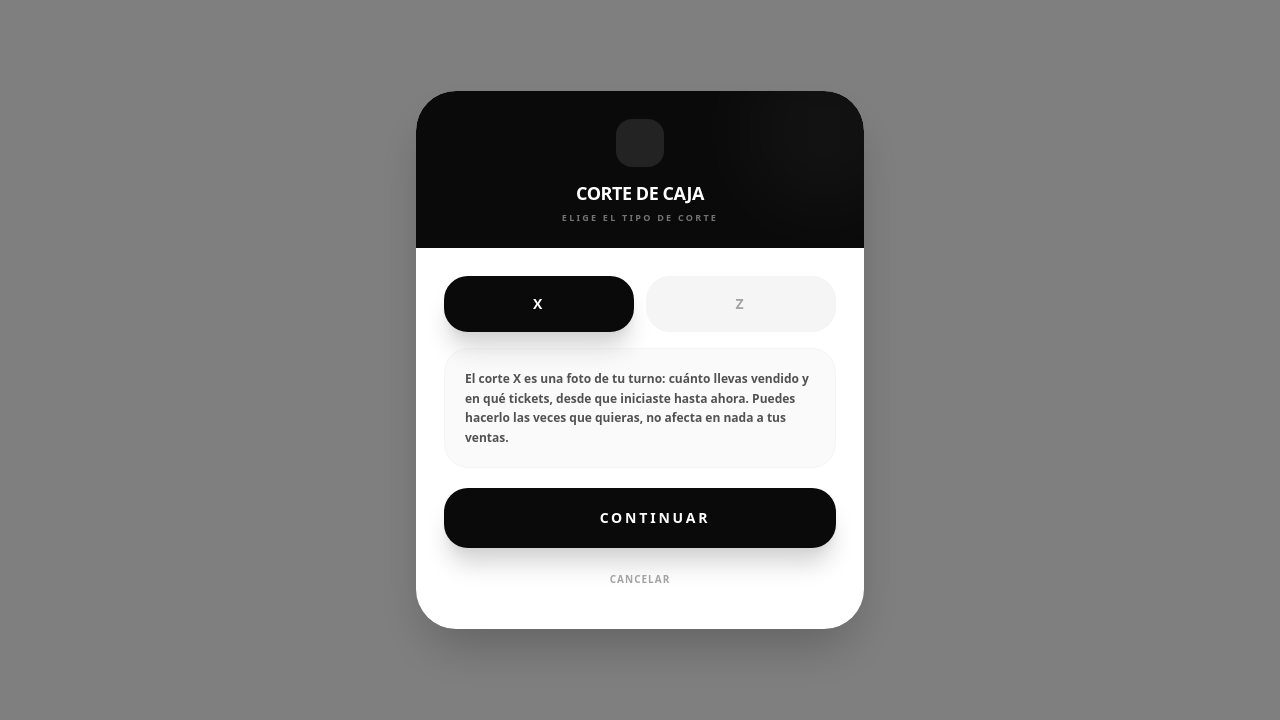
Test: empleacortes · previa e impresión › Continuar en X pide el reporte y muestra folios TICKET-NNNN
Click the button "Continuar".
click(640, 518)  # box [444,488,836,548]
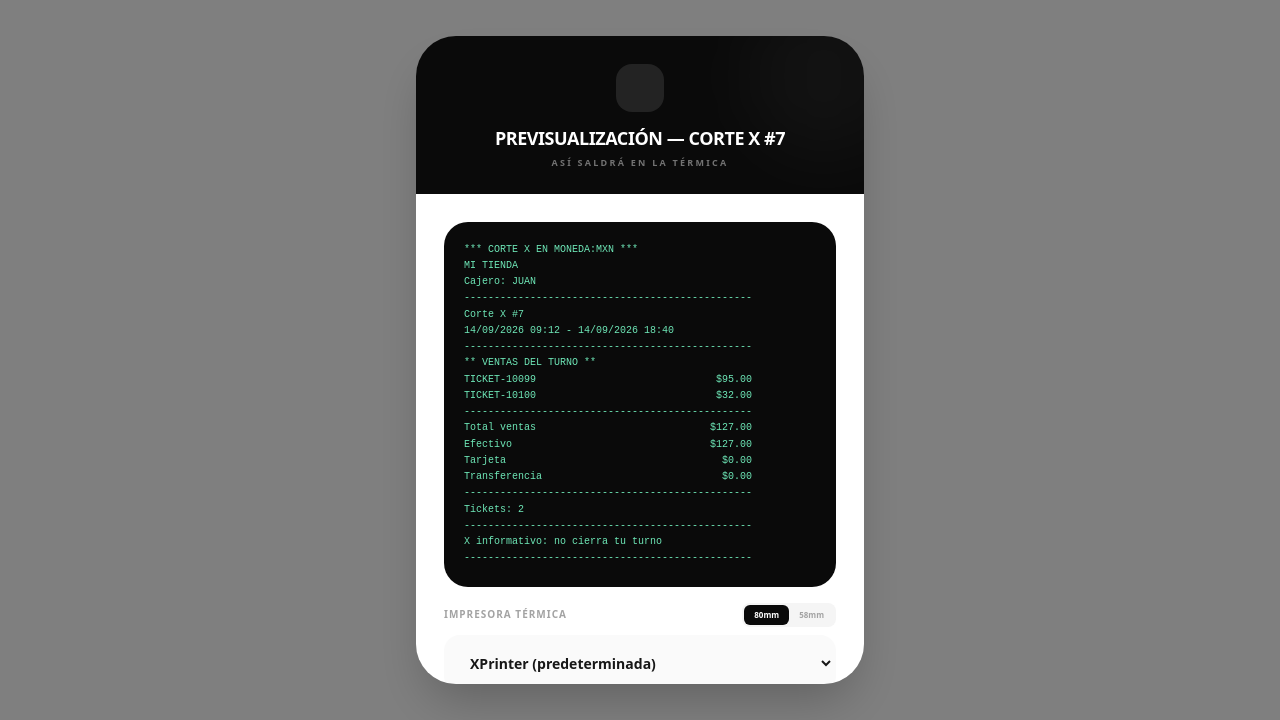
Expected: the text "Total ventas" is shown, [464,244,752,563]
